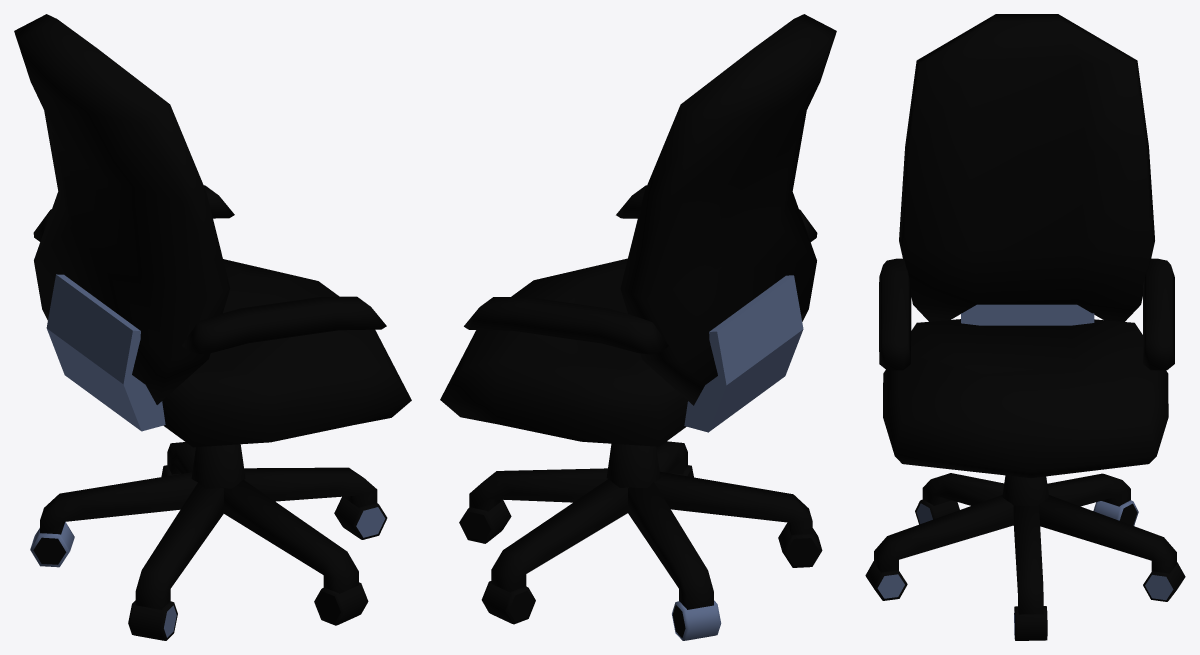
The model's file is officechair1.fbx.
3 renders of one model, left to right at view 1: azimuth 30°, elevation 25°; view 2: azimuth 150°, elevation 25°; view 3: azimuth 270°, elevation 25°, orthographic. The views are drawn at different scales.
Visible parts, largest first — view 1: low_poly_interior_081; view 2: low_poly_interior_081; view 3: low_poly_interior_081.
Part boxes in pixels (left/top/right/bottom): low_poly_interior_081: left=14, top=14, right=411, bottom=640; low_poly_interior_081: left=440, top=14, right=836, bottom=640; low_poly_interior_081: left=865, top=14, right=1185, bottom=640.
Size of the model in its own units: 1.99 by 3.16 by 1.86.
